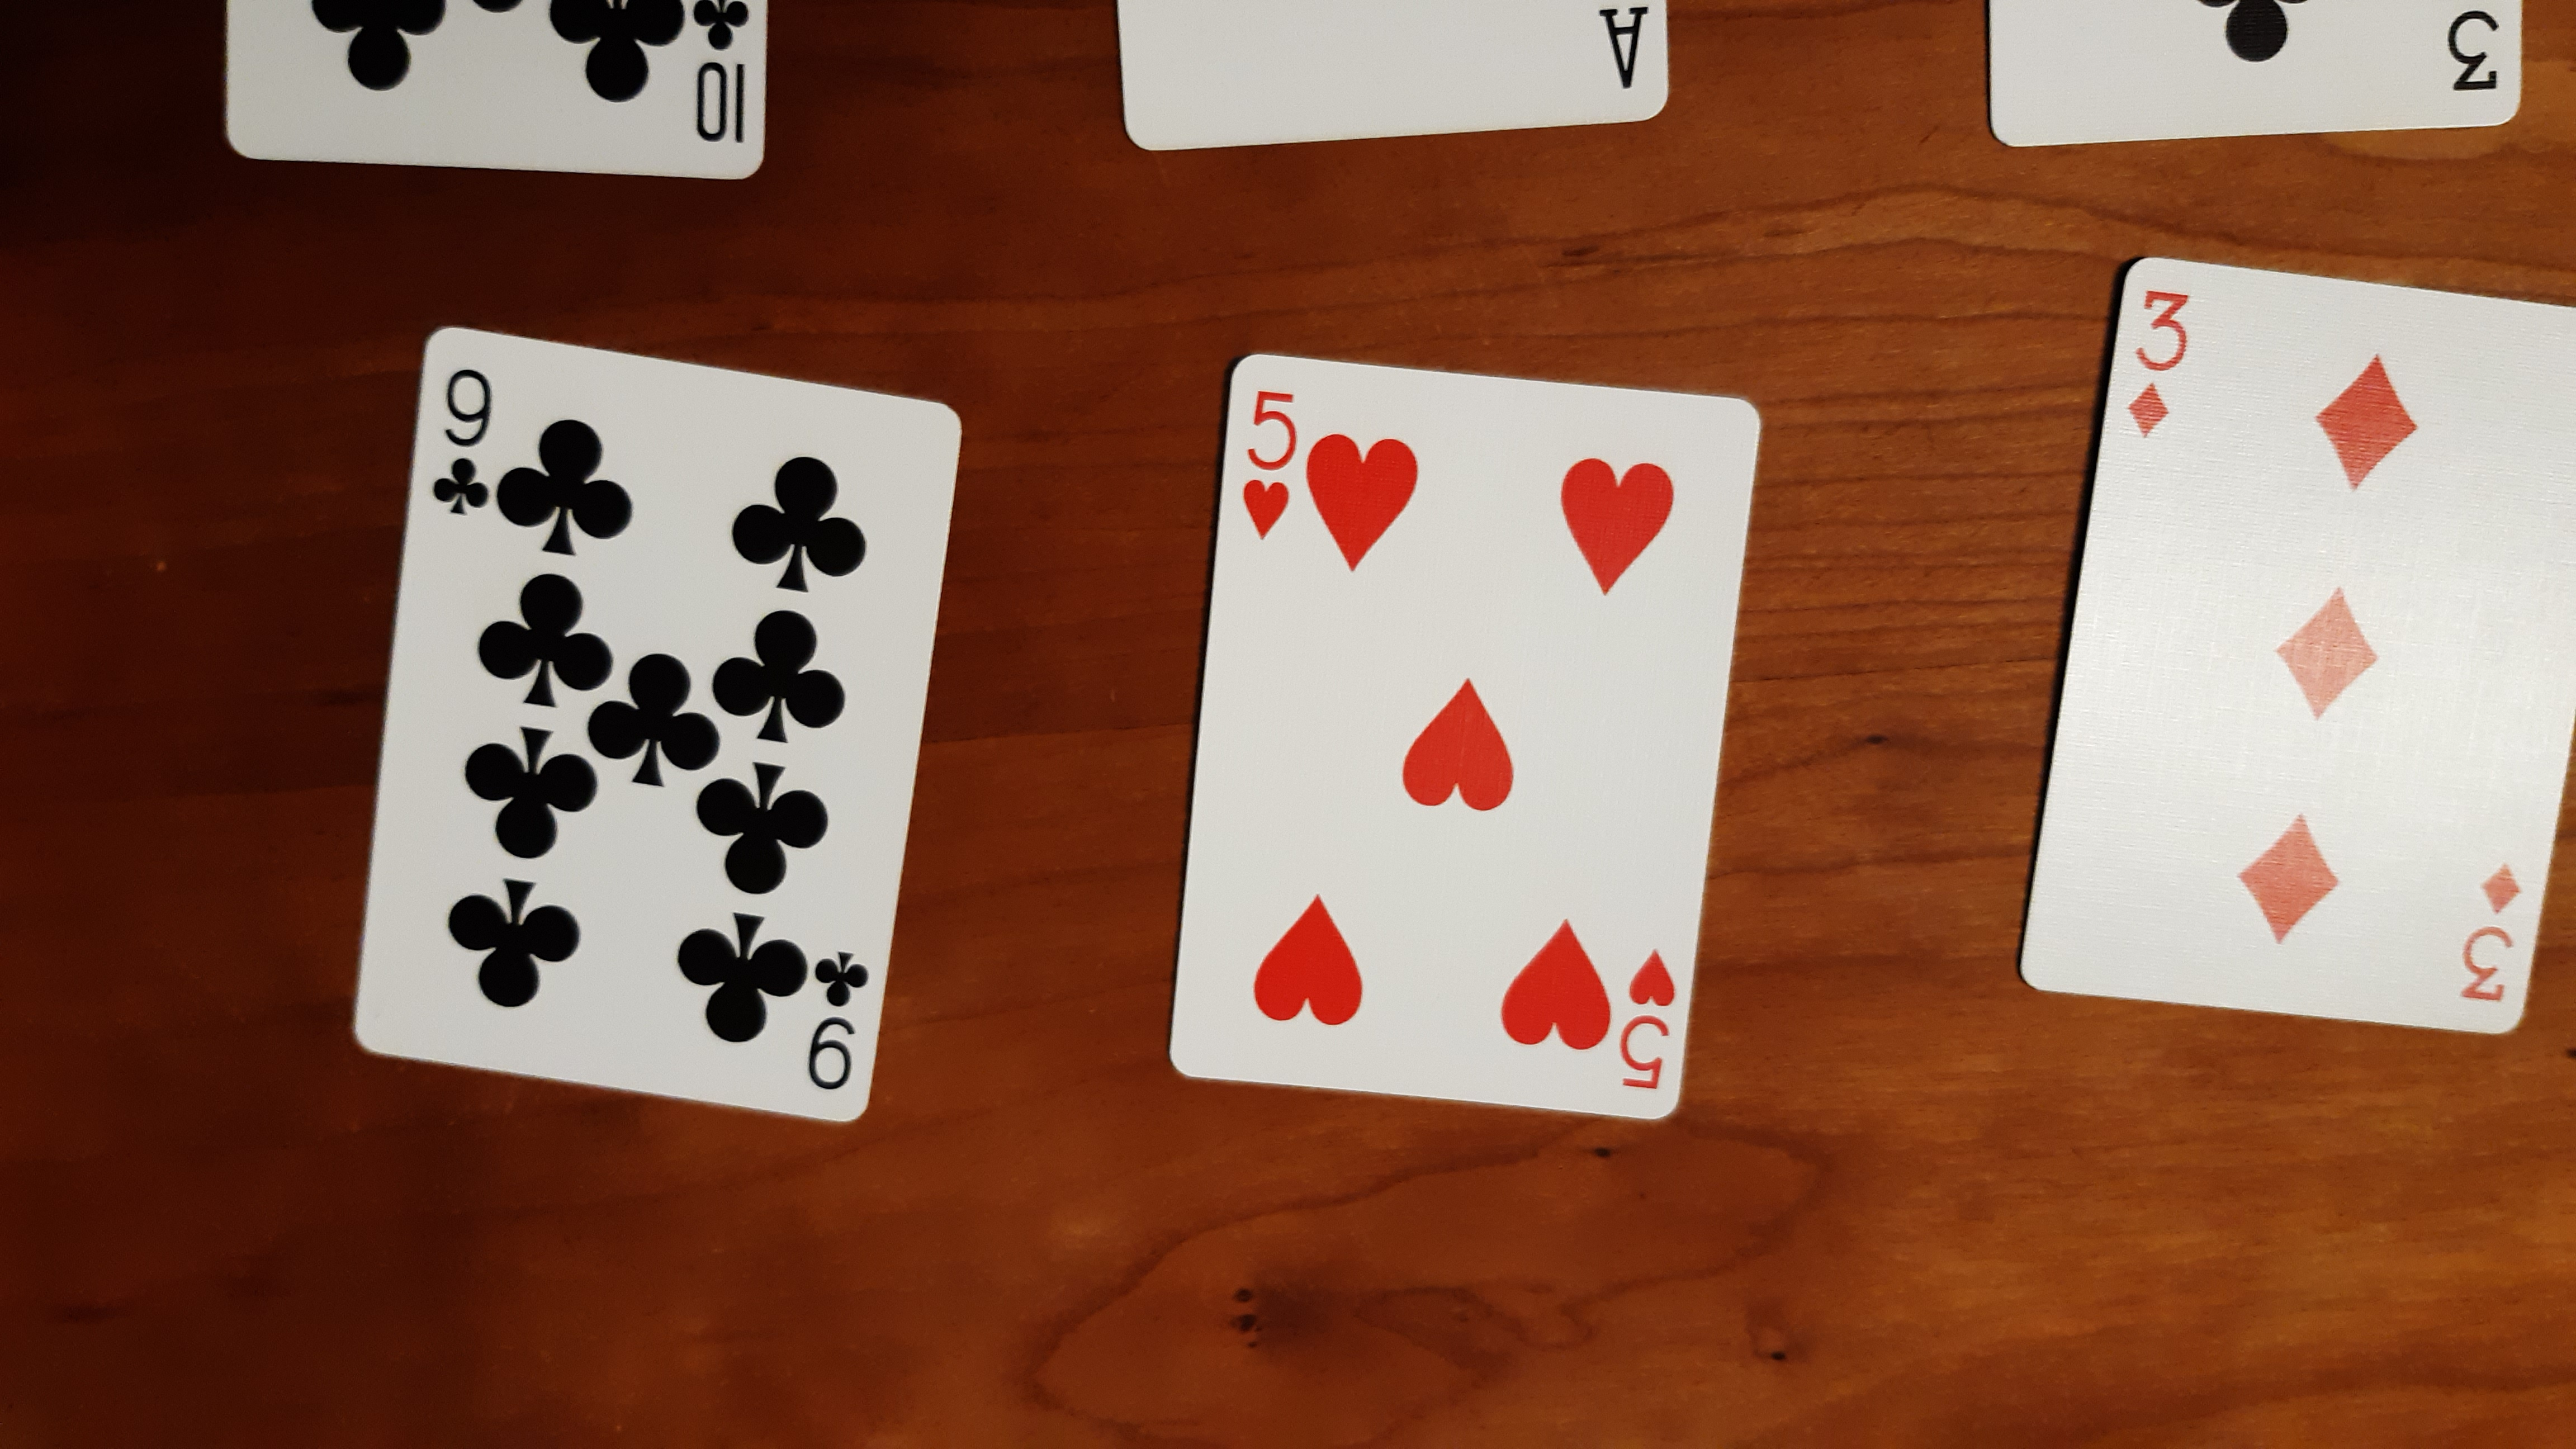Black_Club_10: (681, 4, 750, 149)
Black_Club_3: (2206, 4, 2507, 97)
Black_Club_9: (433, 372, 870, 1099)
Red_Diamond_3: (2125, 274, 2194, 448), (2454, 855, 2519, 1010)
Red_Heart_5: (1231, 377, 1300, 543), (1608, 945, 1679, 1095)
